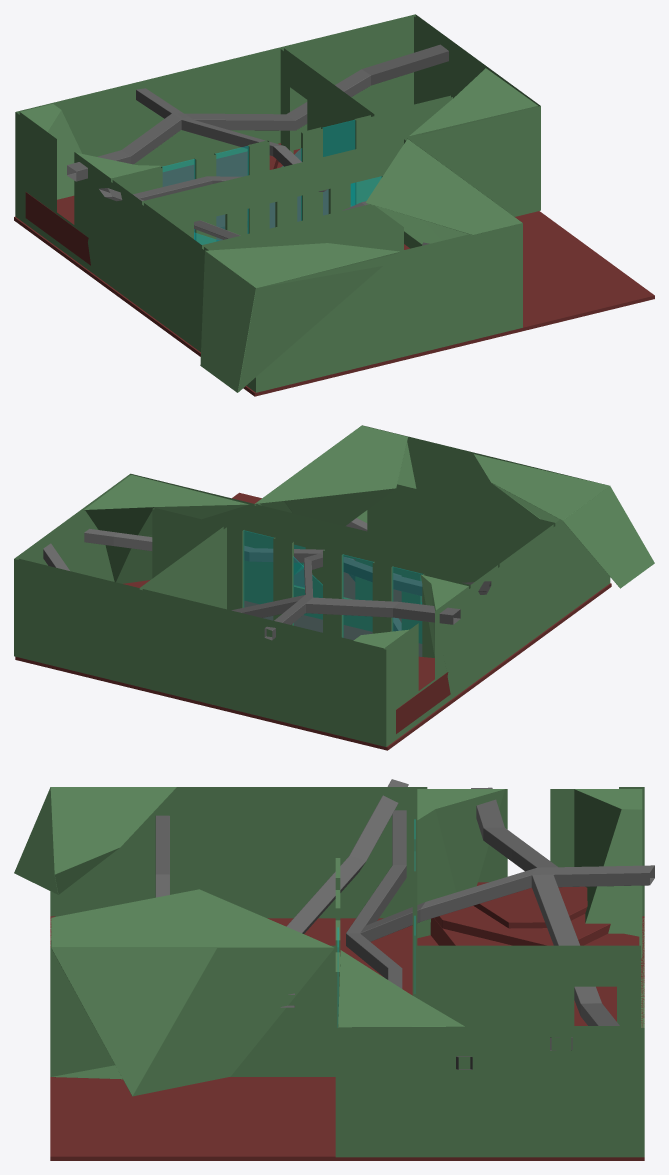
File: Nivel_Tuto_V2.fbx
The picture shows the model from 3 angles, top to bottom: view 1: azimuth 30°, elevation 25°; view 2: azimuth 150°, elevation 25°; view 3: azimuth 270°, elevation 25°; orthographic projection. The views are drawn at different scales.
Visible parts, largest first — view 1: Nivel_Tuto_V2; view 2: Nivel_Tuto_V2; view 3: Nivel_Tuto_V2.
Boxes of the visible parts, left/top/right/bottom form: Nivel_Tuto_V2: left=14, top=14, right=654, bottom=396; Nivel_Tuto_V2: left=14, top=425, right=654, bottom=750; Nivel_Tuto_V2: left=14, top=779, right=654, bottom=1160.
Bounding box in the file's own units: 13.07 × 3.93 × 13.48.
